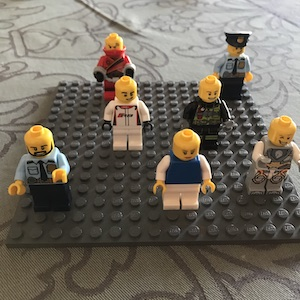Lego: (8, 123, 71, 215), (152, 128, 216, 215), (247, 115, 300, 198), (101, 75, 153, 151), (180, 75, 232, 147), (211, 30, 255, 100), (92, 33, 138, 99)
